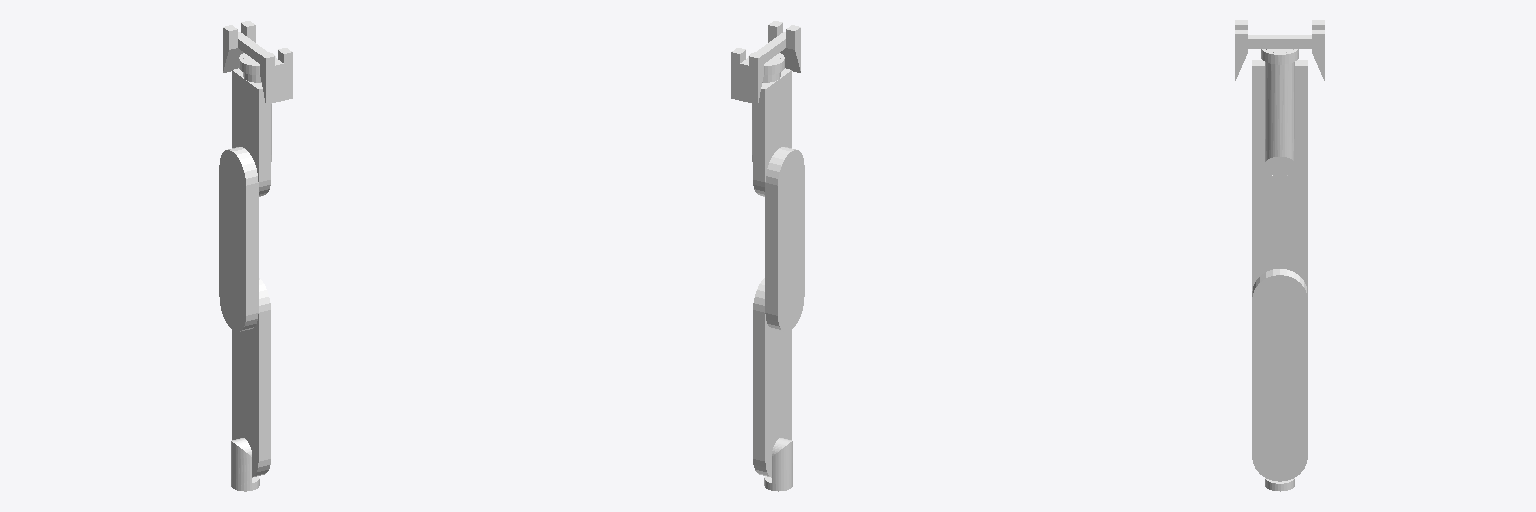
The robot description file, URDF, robot "arm2_urdf":
<?xml version="1.0" encoding="utf-8"?>
<!-- This URDF was automatically created by SolidWorks to URDF Exporter! Originally created by [author] ([email redacted]) 
     Commit Version: 1.6.0-4-g7f85cfe  Build Version: 1.6.7995.38578
     For more information, please see http://wiki.ros.org/sw_urdf_exporter -->
<robot
  name="arm2_urdf">
  <link
    name="base_link">
    <inertial>
      <origin
        xyz="0.00471637962515252 -2.02435604085736E-18 0.0325389989094777"
        rpy="0 0 0" />
      <mass
        value="1.29746966186444" />
      <inertia
        ixx="0.0014759781678178"
        ixy="-1.35008629777876E-19"
        ixz="1.5537047040001E-05"
        iyy="0.00421739897158573"
        iyz="-2.46131259795954E-20"
        izz="0.00471200538832214" />
    </inertial>
    <visual>
      <origin
        xyz="0 0 0"
        rpy="0 0 0" />
      <geometry>
        <mesh
          filename="package://arm2_urdf/meshes/base_link.STL" />
      </geometry>
      <material
        name="">
        <color
          rgba="1 1 1 0.35" />
      </material>
    </visual>
    <collision>
      <origin
        xyz="0 0 0"
        rpy="0 0 0" />
      <geometry>
        <mesh
          filename="package://arm2_urdf/meshes/base_link.STL" />
      </geometry>
    </collision>
  </link>
  <link
    name="link_1">
    <inertial>
      <origin
        xyz="-0.0013075 1.1113E-09 0.065249"
        rpy="0 0 0" />
      <mass
        value="0.43177" />
      <inertia
        ixx="0.00069332"
        ixy="3.1153E-11"
        ixz="-4.597E-05"
        iyy="0.00071229"
        iyz="-7.9991E-11"
        izz="0.00027594" />
    </inertial>
    <visual>
      <origin
        xyz="0 0 0"
        rpy="0 0 0" />
      <geometry>
        <mesh
          filename="package://arm2_urdf/meshes/link_1.STL" />
      </geometry>
      <material
        name="">
        <color
          rgba="1 1 1 0.35" />
      </material>
    </visual>
    <collision>
      <origin
        xyz="0 0 0"
        rpy="0 0 0" />
      <geometry>
        <mesh
          filename="package://arm2_urdf/meshes/link_1.STL" />
      </geometry>
    </collision>
  </link>
  <joint
    name="joint_1"
    type="revolute">
    <origin
      xyz="0 0 0.08"
      rpy="0 0 0" />
    <parent
      link="base_link" />
    <child
      link="link_1" />
    <axis
      xyz="0 0 1" />
    <limit
      lower="0"
      upper="0"
      effort="0"
      velocity="0" />
  </joint>
  <link
    name="link_2">
    <inertial>
      <origin
        xyz="1.79311178215976E-17 0.2 -0.0175"
        rpy="0 0 0" />
      <mass
        value="2.15623344465657" />
      <inertia
        ixx="0.0404607303446179"
        ixy="-4.14419120350934E-18"
        ixz="5.55520941747359E-20"
        iyy="0.00339947089168857"
        iyz="3.41073538657204E-19"
        izz="0.0434199702413557" />
    </inertial>
    <visual>
      <origin
        xyz="0 0 0"
        rpy="0 0 0" />
      <geometry>
        <mesh
          filename="package://arm2_urdf/meshes/link_2.STL" />
      </geometry>
      <material
        name="">
        <color
          rgba="1 1 1 0.35" />
      </material>
    </visual>
    <collision>
      <origin
        xyz="0 0 0"
        rpy="0 0 0" />
      <geometry>
        <mesh
          filename="package://arm2_urdf/meshes/link_2.STL" />
      </geometry>
    </collision>
  </link>
  <joint
    name="joint_2"
    type="revolute">
    <origin
      xyz="0.035 0 0.09"
      rpy="1.5708 0 1.5708" />
    <parent
      link="link_1" />
    <child
      link="link_2" />
    <axis
      xyz="0 0 1" />
    <limit
      lower="0"
      upper="0"
      effort="0"
      velocity="0" />
  </joint>
  <link
    name="link_3">
    <inertial>
      <origin
        xyz="-2.0361E-16 0.175 -0.048447"
        rpy="0 0 0" />
      <mass
        value="2.4893" />
      <inertia
        ixx="0.047425"
        ixy="-6.7694E-18"
        ixz="1.4197E-19"
        iyy="0.0035794"
        iyz="1.9095E-18"
        izz="0.049871" />
    </inertial>
    <visual>
      <origin
        xyz="0 0 0"
        rpy="0 0 0" />
      <geometry>
        <mesh
          filename="package://arm2_urdf/meshes/link_3.STL" />
      </geometry>
      <material
        name="">
        <color
          rgba="1 1 1 0.35" />
      </material>
    </visual>
    <collision>
      <origin
        xyz="0 0 0"
        rpy="0 0 0" />
      <geometry>
        <mesh
          filename="package://arm2_urdf/meshes/link_3.STL" />
      </geometry>
    </collision>
  </link>
  <joint
    name="joint_3"
    type="revolute">
    <origin
      xyz="0 0.4 0"
      rpy="0 0 0" />
    <parent
      link="link_2" />
    <child
      link="link_3" />
    <axis
      xyz="0 0 1" />
    <limit
      lower="0"
      upper="0"
      effort="0"
      velocity="0" />
  </joint>
  <link
    name="link_4">
    <inertial>
      <origin
        xyz="-7.1281E-08 0.13392 -0.0082921"
        rpy="0 0 0" />
      <mass
        value="1.981" />
      <inertia
        ixx="0.016967"
        ixy="8.5801E-09"
        ixz="1.576E-08"
        iyy="0.0027423"
        iyz="-0.0005982"
        izz="0.018501" />
    </inertial>
    <visual>
      <origin
        xyz="0 0 0"
        rpy="0 0 0" />
      <geometry>
        <mesh
          filename="package://arm2_urdf/meshes/link_4.STL" />
      </geometry>
      <material
        name="">
        <color
          rgba="1 1 1 0.35" />
      </material>
    </visual>
    <collision>
      <origin
        xyz="0 0 0"
        rpy="0 0 0" />
      <geometry>
        <mesh
          filename="package://arm2_urdf/meshes/link_4.STL" />
      </geometry>
    </collision>
  </link>
  <joint
    name="joint_4"
    type="revolute">
    <origin
      xyz="0 0.35 0"
      rpy="0 0 0" />
    <parent
      link="link_3" />
    <child
      link="link_4" />
    <axis
      xyz="0 0 1" />
    <limit
      lower="0"
      upper="0"
      effort="0"
      velocity="0" />
  </joint>
  <link
    name="link_5">
    <inertial>
      <origin
        xyz="6.8945E-17 0.0024682 2.7756E-17"
        rpy="0 0 0" />
      <mass
        value="0.16754" />
      <inertia
        ixx="9.3733E-05"
        ixy="-7.6049E-20"
        ixz="1.2497E-20"
        iyy="0.00030256"
        iyz="-6.6341E-23"
        izz="0.00027659" />
    </inertial>
    <visual>
      <origin
        xyz="0 0 0"
        rpy="0 0 0" />
      <geometry>
        <mesh
          filename="package://arm2_urdf/meshes/link_5.STL" />
      </geometry>
      <material
        name="">
        <color
          rgba="1 1 1 0.35" />
      </material>
    </visual>
    <collision>
      <origin
        xyz="0 0 0"
        rpy="0 0 0" />
      <geometry>
        <mesh
          filename="package://arm2_urdf/meshes/link_5.STL" />
      </geometry>
    </collision>
  </link>
  <joint
    name="joint_5"
    type="revolute">
    <origin
      xyz="0 0.3 0"
      rpy="0 0 0" />
    <parent
      link="link_4" />
    <child
      link="link_5" />
    <axis
      xyz="0 1 0" />
    <limit
      lower="0"
      upper="0"
      effort="0"
      velocity="0" />
  </joint>
  <link
    name="link_6">
    <inertial>
      <origin
        xyz="-0.0125 0.017368 0.025"
        rpy="0 0 0" />
      <mass
        value="0.19059" />
      <inertia
        ixx="0.00016892"
        ixy="3.5796E-20"
        ixz="-9.2019E-20"
        iyy="0.00025339"
        iyz="-1.6928E-05"
        izz="0.00011093" />
    </inertial>
    <visual>
      <origin
        xyz="0 0 0"
        rpy="0 0 0" />
      <geometry>
        <mesh
          filename="package://arm2_urdf/meshes/link_6.STL" />
      </geometry>
      <material
        name="">
        <color
          rgba="1 1 1 0.35" />
      </material>
    </visual>
    <collision>
      <origin
        xyz="0 0 0"
        rpy="0 0 0" />
      <geometry>
        <mesh
          filename="package://arm2_urdf/meshes/link_6.STL" />
      </geometry>
    </collision>
  </link>
  <joint
    name="joint_6"
    type="prismatic">
    <origin
      xyz="-0.075 0.025 0.0125"
      rpy="1.5708 -1.5708 0" />
    <parent
      link="link_5" />
    <child
      link="link_6" />
    <axis
      xyz="0 1 0" />
    <limit
      lower="0"
      upper="0"
      effort="0"
      velocity="0" />
  </joint>
  <link
    name="link_7">
    <inertial>
      <origin
        xyz="-0.0125 -0.017368 0.025"
        rpy="0 0 0" />
      <mass
        value="0.19059" />
      <inertia
        ixx="0.00016892"
        ixy="4.3139E-20"
        ixz="8.278E-22"
        iyy="0.00025339"
        iyz="1.6928E-05"
        izz="0.00011093" />
    </inertial>
    <visual>
      <origin
        xyz="0 0 0"
        rpy="0 0 0" />
      <geometry>
        <mesh
          filename="package://arm2_urdf/meshes/link_7.STL" />
      </geometry>
      <material
        name="">
        <color
          rgba="1 1 1 0.35" />
      </material>
    </visual>
    <collision>
      <origin
        xyz="0 0 0"
        rpy="0 0 0" />
      <geometry>
        <mesh
          filename="package://arm2_urdf/meshes/link_7.STL" />
      </geometry>
    </collision>
  </link>
  <joint
    name="joint_7"
    type="prismatic">
    <origin
      xyz="0.075 0.025 0.0125"
      rpy="1.5708 -1.5708 0" />
    <parent
      link="link_5" />
    <child
      link="link_7" />
    <axis
      xyz="0 1 0" />
    <limit
      lower="0"
      upper="0"
      effort="0"
      velocity="0" />
  </joint>
</robot>

--- What the picture shows (computed from the rendered views, not written in the file) ---
Views: 3 orthographic renders of the robot side by side, from view 1: azimuth 30°, elevation 25°; view 2: azimuth 150°, elevation 25°; view 3: azimuth 270°, elevation 25°.
Model arm2_urdf with 8 links and 7 joints (5 revolute, 2 prismatic), rooted at base_link, posed every joint at zero.
Links seen in each view (by area): view 1: link_3, link_2, link_4, link_6, link_1, link_7, link_5; view 2: link_3, link_2, link_4, link_7, link_1, link_6, link_5; view 3: link_2, link_4, link_3, link_5, link_1, link_6, link_7.
Boxes of the visible links, <box> form: link_3: <box>219,147,258,331</box>; link_2: <box>232,278,270,477</box>; link_4: <box>232,54,271,196</box>; link_6: <box>260,48,292,104</box>; link_1: <box>231,438,259,491</box>; link_7: <box>223,21,255,72</box>; link_5: <box>238,37,276,74</box>; link_3: <box>765,147,804,331</box>; link_2: <box>753,278,791,477</box>; link_4: <box>752,54,791,196</box>; link_7: <box>731,48,763,104</box>; link_1: <box>764,438,792,491</box>; link_6: <box>768,21,800,72</box>; link_5: <box>747,37,785,74</box>; link_2: <box>1252,269,1307,481</box>; link_4: <box>1252,49,1307,188</box>; link_3: <box>1252,157,1307,313</box>; link_5: <box>1248,35,1311,64</box>; link_1: <box>1265,443,1294,491</box>; link_6: <box>1235,20,1247,80</box>; link_7: <box>1312,20,1324,80</box>.
Size in the robot's own frame: 0.115 by 0.21 by 1.19 metres.
7 mesh visuals loaded from 8 distinct referenced files (7 binary STL); not drawn: 1 (reference not matched to a file when rendering).